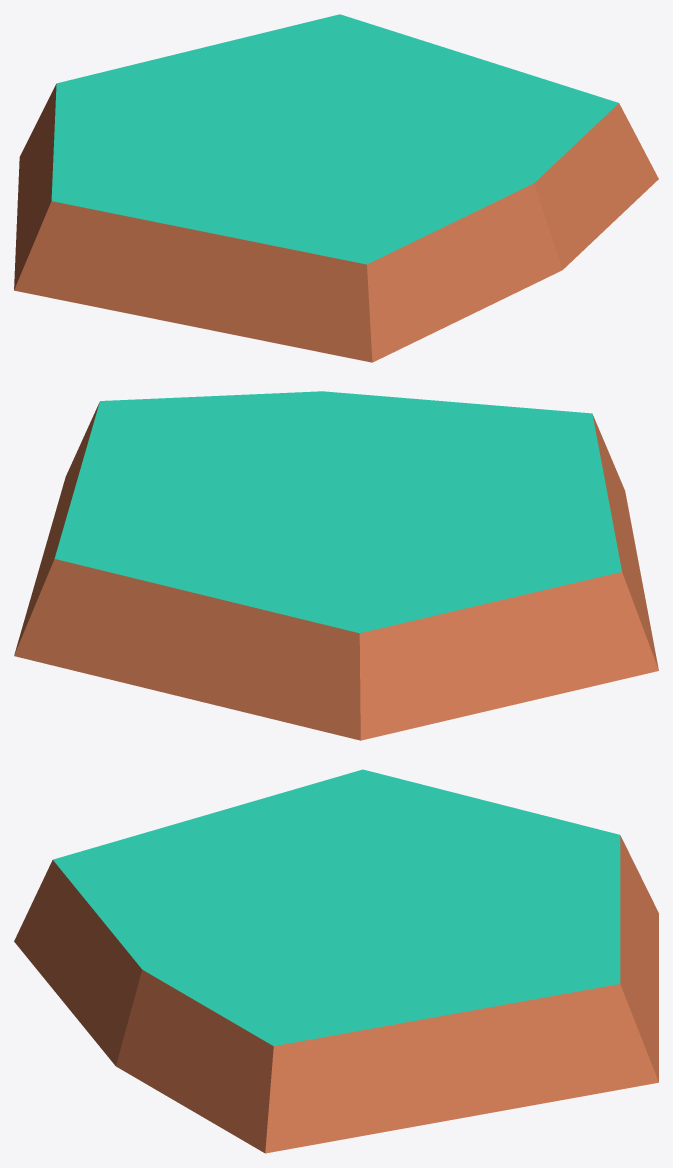
File: rock_smallFlatA.glb
3 renders of one model, top to bottom at view 1: azimuth 30°, elevation 25°; view 2: azimuth 150°, elevation 25°; view 3: azimuth 270°, elevation 25°, orthographic. The views are drawn at different scales.
Visible parts, largest first — view 1: rock_smallFlatA; view 2: rock_smallFlatA; view 3: rock_smallFlatA.
Part boxes in pixels (x1=…): rock_smallFlatA: x1=14, y1=14, x2=658, y2=362; rock_smallFlatA: x1=14, y1=391, x2=658, y2=740; rock_smallFlatA: x1=14, y1=769, x2=658, y2=1153.
Bounding box in the file's own units: 0.4958 × 0.0649 × 0.4296.
